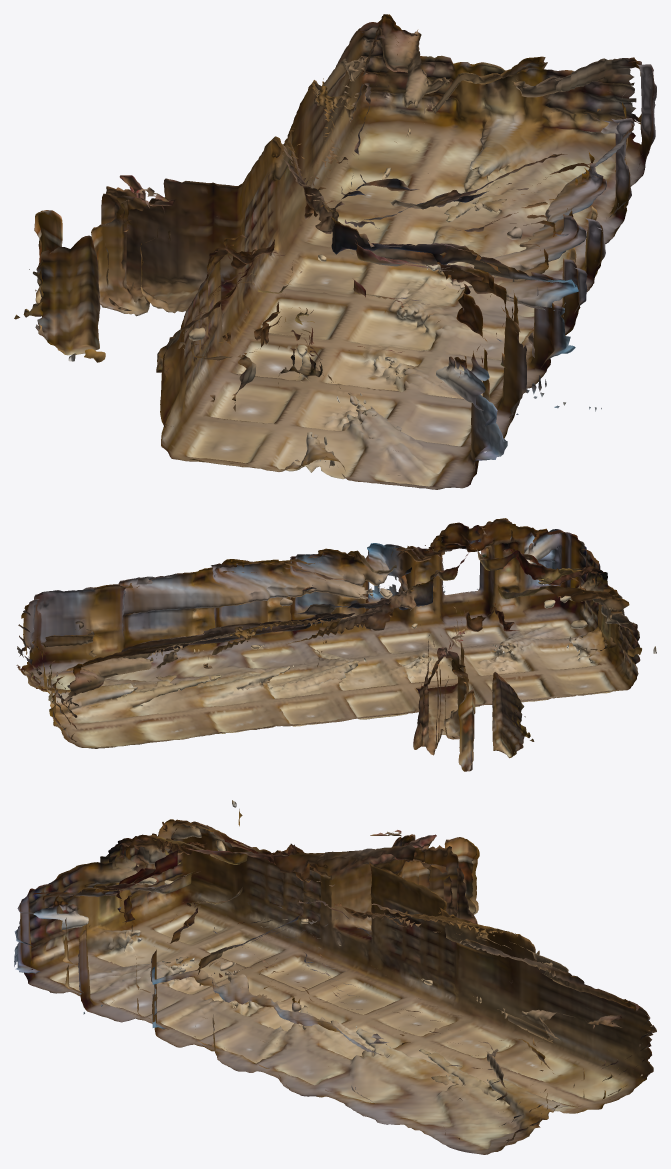
File: Elegant library with rich woodwork_collider.glb
3 renders of one model, top to bottom at view 1: azimuth 30°, elevation 25°; view 2: azimuth 150°, elevation 25°; view 3: azimuth 270°, elevation 25°, orthographic. The views are drawn at different scales.
Parts seen in each view (by area): view 1: world; view 2: world; view 3: world.
Boxes of the visible parts, left/top/right/bottom form: world: left=14, top=14, right=656, bottom=489; world: left=16, top=518, right=656, bottom=771; world: left=14, top=800, right=656, bottom=1154.
Size of the model in its own units: 18.49 by 3.78 by 17.74.
